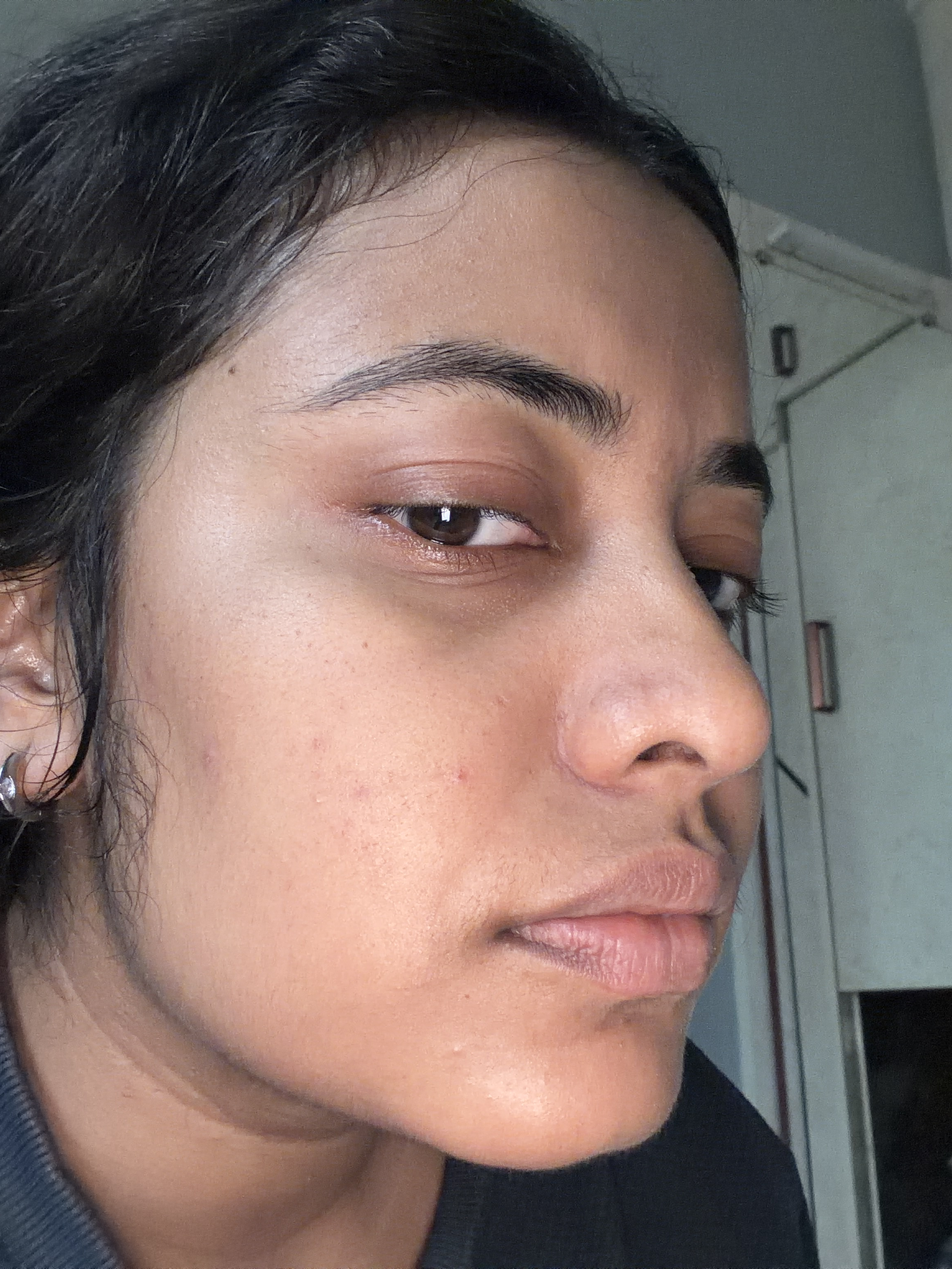closed_comedone: (302, 782, 338, 821), (529, 1062, 558, 1100)
papule: (444, 1037, 478, 1066), (446, 756, 472, 791)
